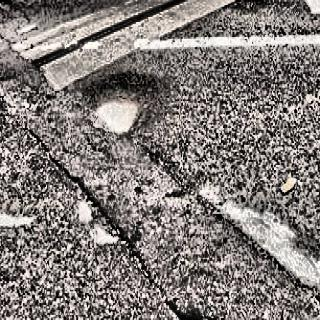crack: (22, 129, 221, 320)
pothole: (81, 77, 149, 140)
